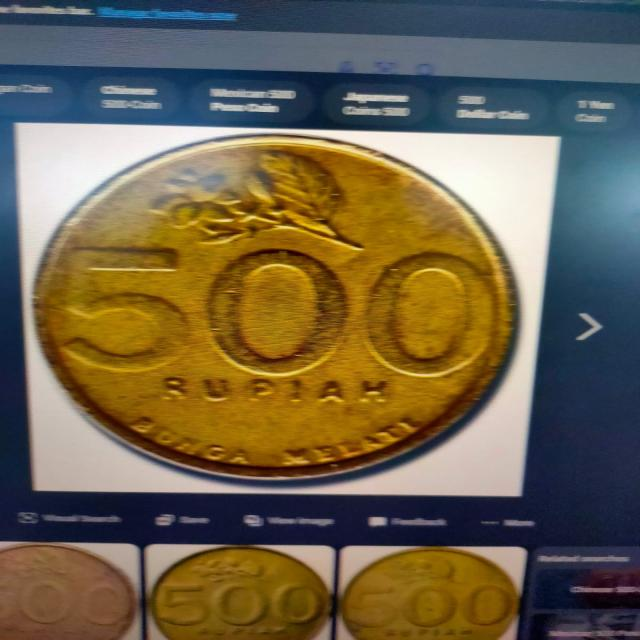500-kuning: (40, 125, 537, 497)
